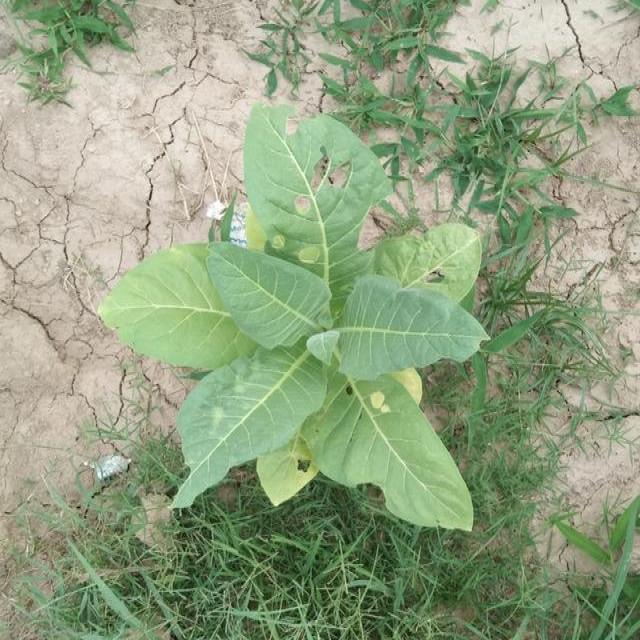crop: (95, 106, 486, 542)
